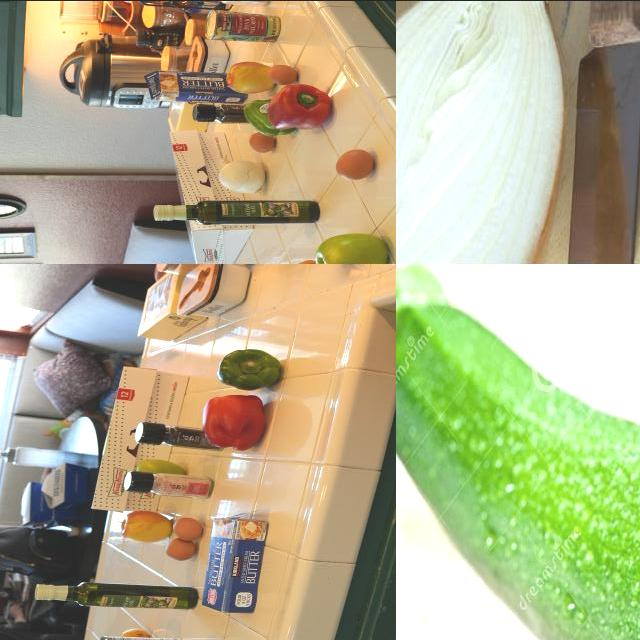bell_pepper: (202, 391, 274, 449), (214, 344, 290, 390), (273, 80, 337, 130), (135, 421, 233, 452), (247, 98, 297, 138), (191, 103, 258, 125)
egg: (334, 147, 378, 184), (172, 512, 208, 540), (162, 543, 202, 561), (245, 132, 275, 154), (275, 60, 299, 87)
onion: (397, 1, 575, 264), (221, 157, 267, 197)
zucchini: (397, 264, 640, 640)
